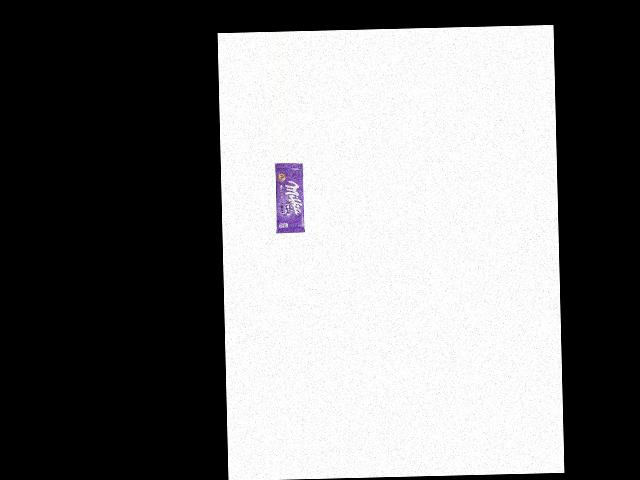chocolate: (271, 162, 306, 237)
